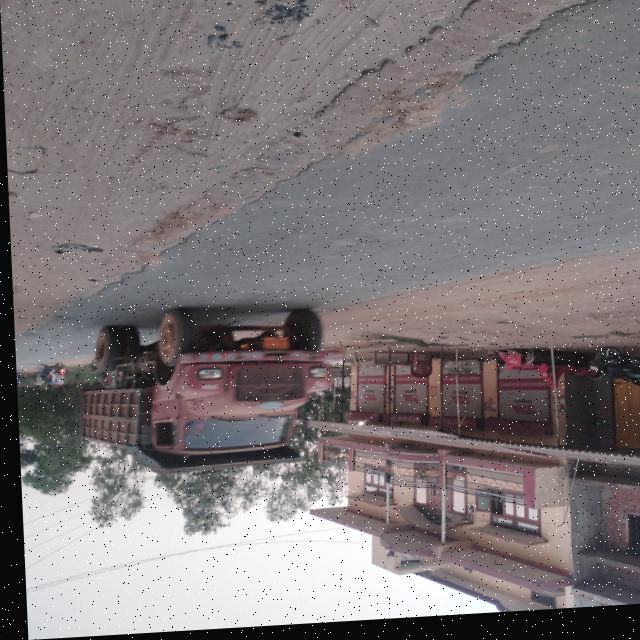plate: (259, 338, 287, 353), (585, 372, 596, 379)
